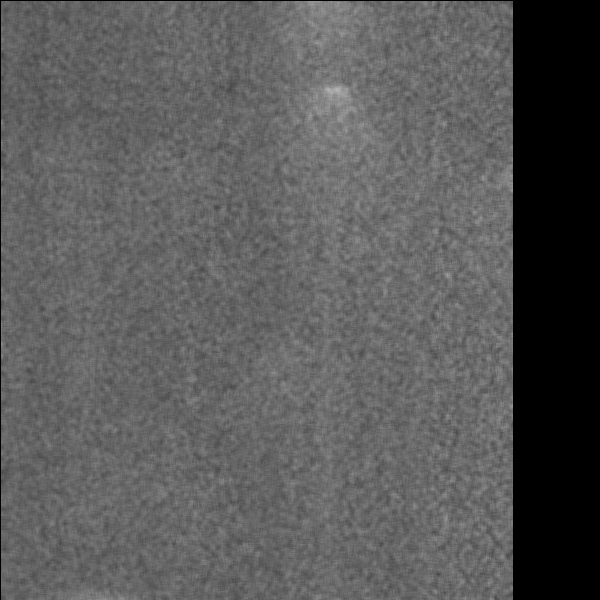spark: (310, 78, 356, 116)
